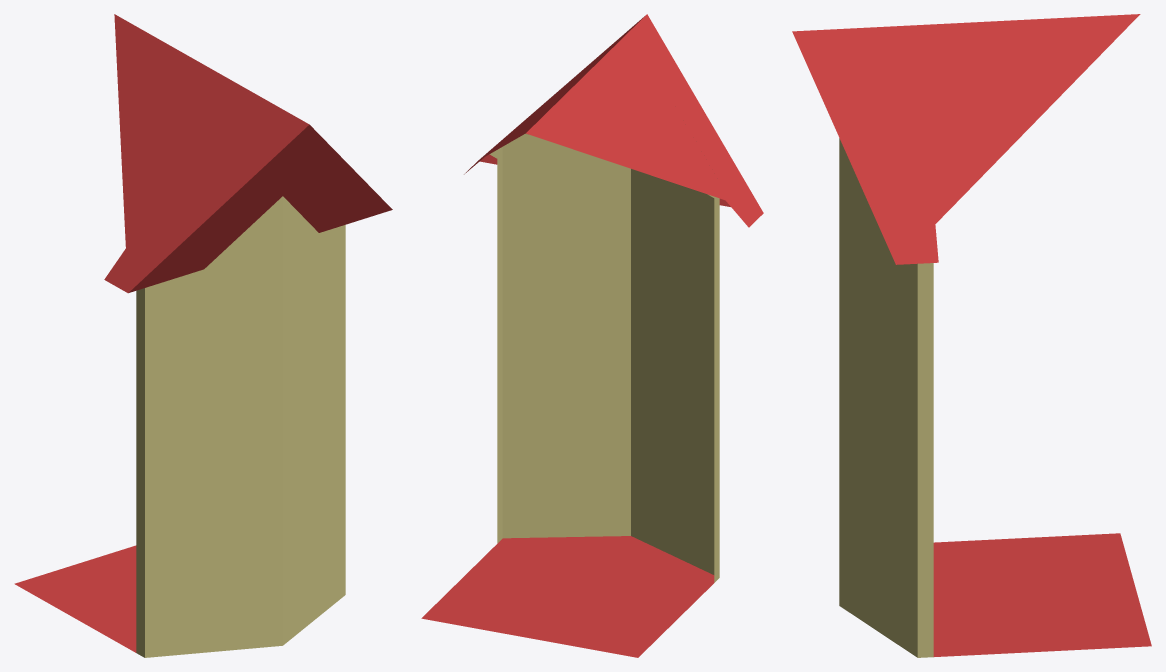
3 views of the same model, side by side, from view 1: azimuth 30°, elevation 25°; view 2: azimuth 150°, elevation 25°; view 3: azimuth 270°, elevation 25° (orthographic). The views are drawn at different scales.
Size of the model in its own units: 6.24 by 6.27 by 11.09.
